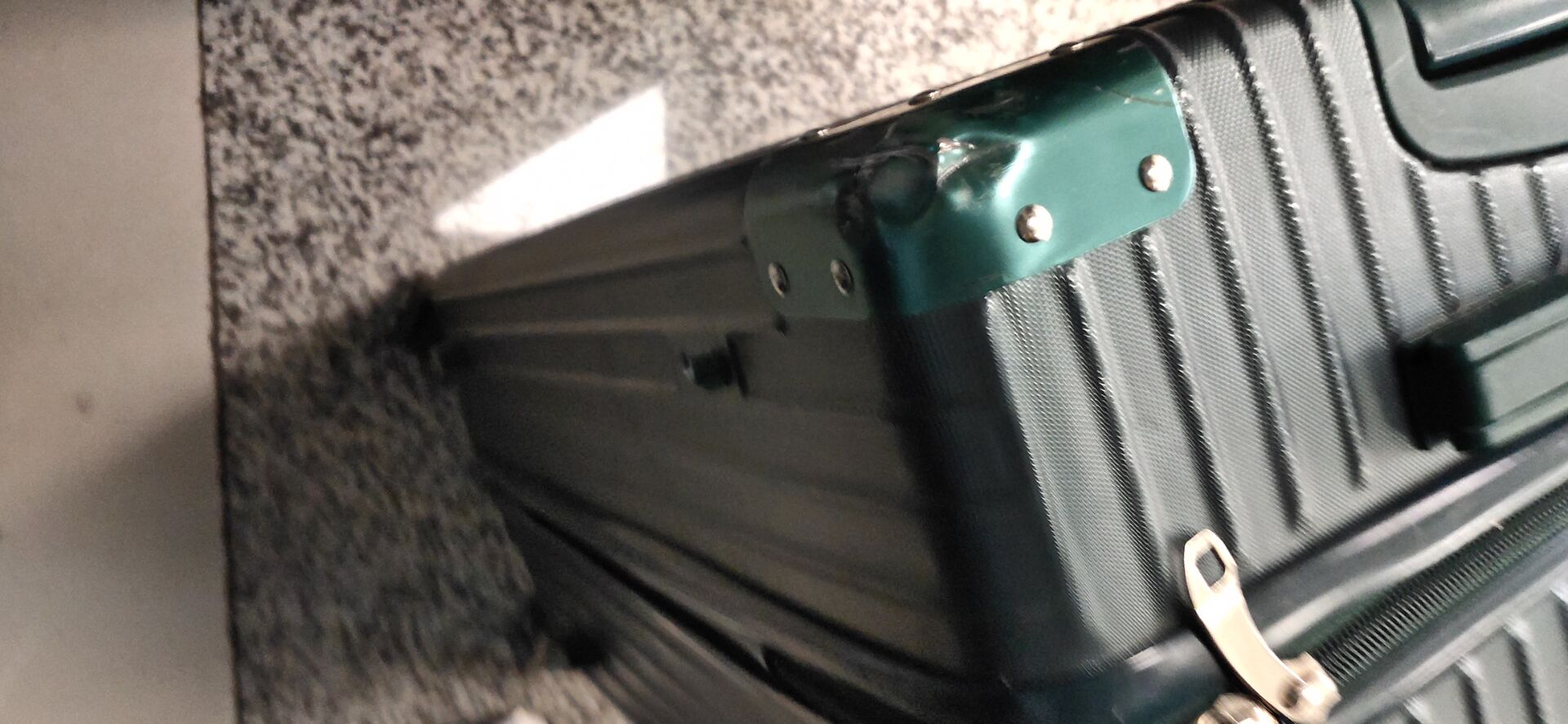rupture: (935, 131, 1022, 199)
